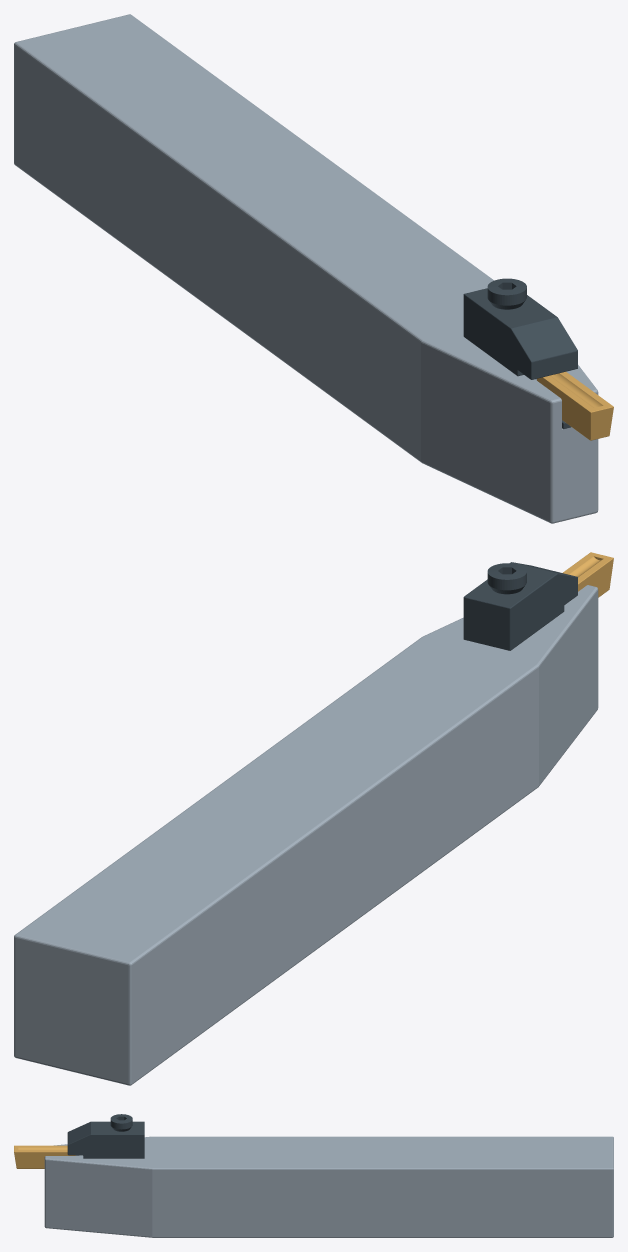
File: external-grooving.glb
The picture shows the model from 3 angles, top to bottom: view 1: azimuth 30°, elevation 25°; view 2: azimuth 150°, elevation 25°; view 3: azimuth 270°, elevation 25°; orthographic projection. The views are drawn at different scales.
Parts seen in each view (by area): view 1: Groove_Holder, Groove_Top_Clamp, Groove_Carbide_Insert, Groove_Clamp_Screw_Head; view 2: Groove_Holder, Groove_Top_Clamp, Groove_Carbide_Insert, Groove_Clamp_Screw_Head; view 3: Groove_Holder, Groove_Top_Clamp, Groove_Carbide_Insert, Groove_Clamp_Screw_Head.
Boxes of the visible parts, box(x1,y1,x2,y2) form: Groove_Holder: box(14, 14, 598, 523); Groove_Top_Clamp: box(463, 288, 577, 379); Groove_Carbide_Insert: box(537, 371, 613, 440); Groove_Clamp_Screw_Head: box(487, 278, 526, 309); Groove_Holder: box(14, 585, 598, 1085); Groove_Top_Clamp: box(463, 562, 577, 650); Groove_Carbide_Insert: box(563, 552, 613, 597); Groove_Clamp_Screw_Head: box(487, 563, 526, 594); Groove_Holder: box(44, 1136, 613, 1237); Groove_Top_Clamp: box(67, 1121, 144, 1158); Groove_Carbide_Insert: box(14, 1145, 75, 1168); Groove_Clamp_Screw_Head: box(110, 1114, 132, 1131).
Size of the model in its own units: 0.01 by 0.0149 by 0.078.
